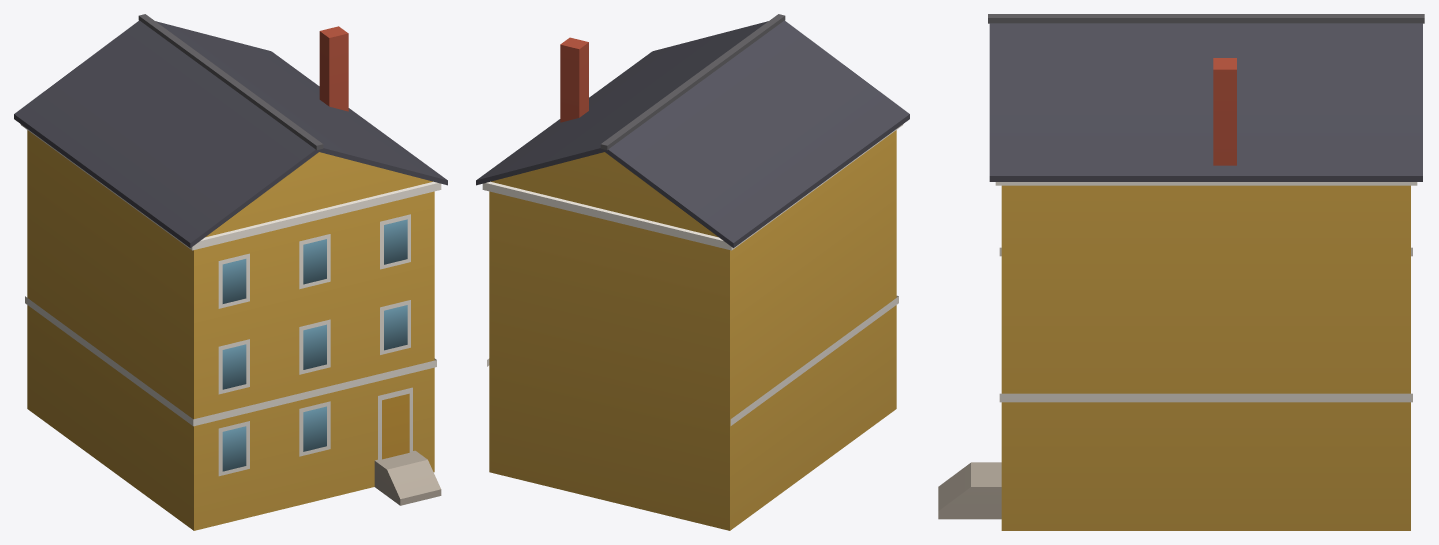
The model's file is beacon_n2_far.glb.
3 renders of one model, left to right at view 1: azimuth 30°, elevation 25°; view 2: azimuth 150°, elevation 25°; view 3: azimuth 270°, elevation 25°, orthographic. The views are drawn at different scales.
Parts seen in each view (by area): view 1: beacon_n2_far; view 2: beacon_n2_far; view 3: beacon_n2_far.
Boxes of the visible parts, box(x1,y1,x2,y2) form: beacon_n2_far: box(14, 14, 447, 530); beacon_n2_far: box(476, 14, 909, 530); beacon_n2_far: box(938, 14, 1424, 530).
Size of the model in its own units: 10.7 by 14.93 by 14.26.
1 material, 1 textured.
